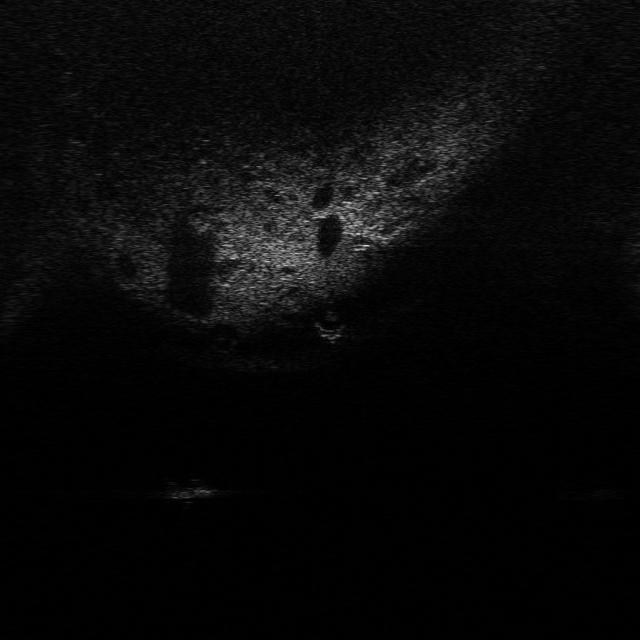ball: (308, 310, 349, 337)
cube: (154, 476, 220, 502)
